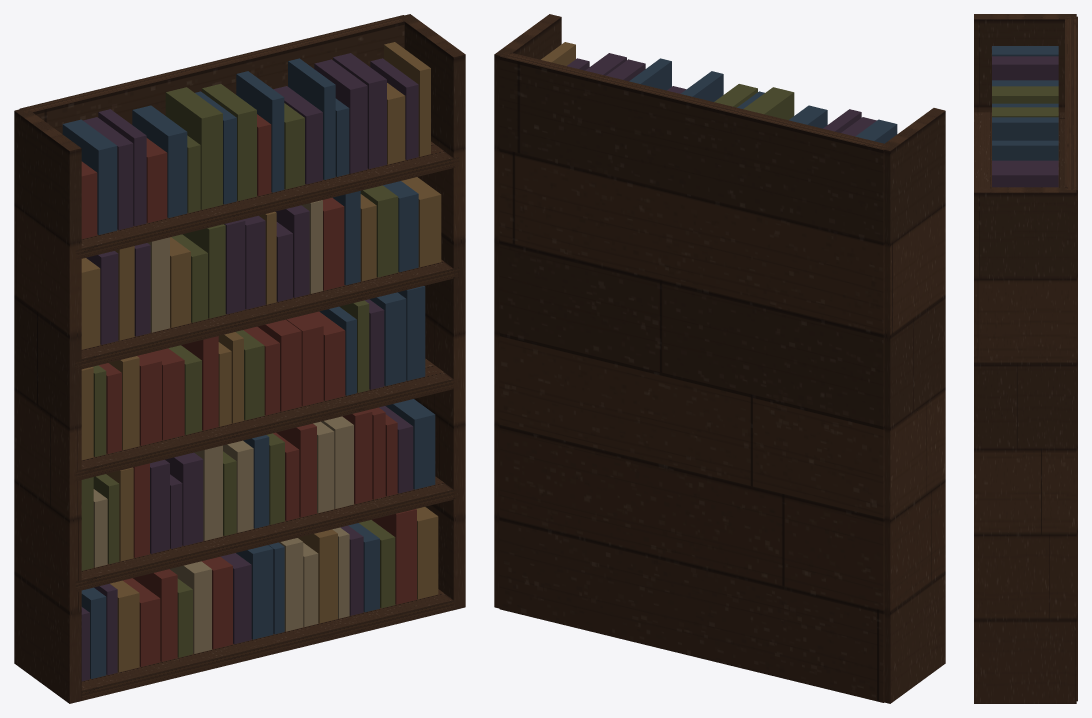
File: bookshelf.glb
3 renders of one model, left to right at view 1: azimuth 30°, elevation 25°; view 2: azimuth 150°, elevation 25°; view 3: azimuth 270°, elevation 25°, orthographic. The views are drawn at different scales.
Visible parts, largest first — view 1: bookshelf; view 2: bookshelf; view 3: bookshelf.
Part boxes in pixels (bbox=[...]): bookshelf: bbox=[14, 14, 465, 703]; bookshelf: bbox=[494, 14, 945, 703]; bookshelf: bbox=[974, 14, 1077, 703].
Bounding box in the file's own units: 1.65 × 2.2 × 0.405.
Materials: 112 (8 with a texture image).
